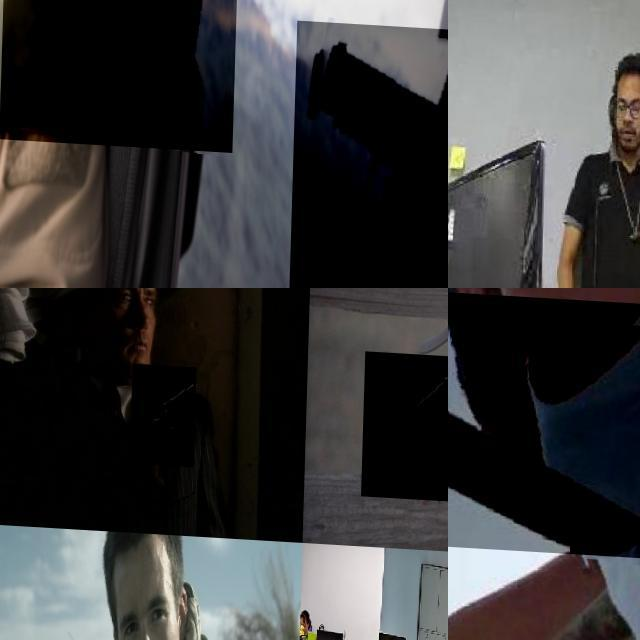-: (448, 288, 640, 552)
gun-knife-thesis - v11 Yolov5 augmented: (291, 15, 448, 288), (1, 0, 241, 149), (362, 346, 448, 497), (132, 362, 198, 465)
